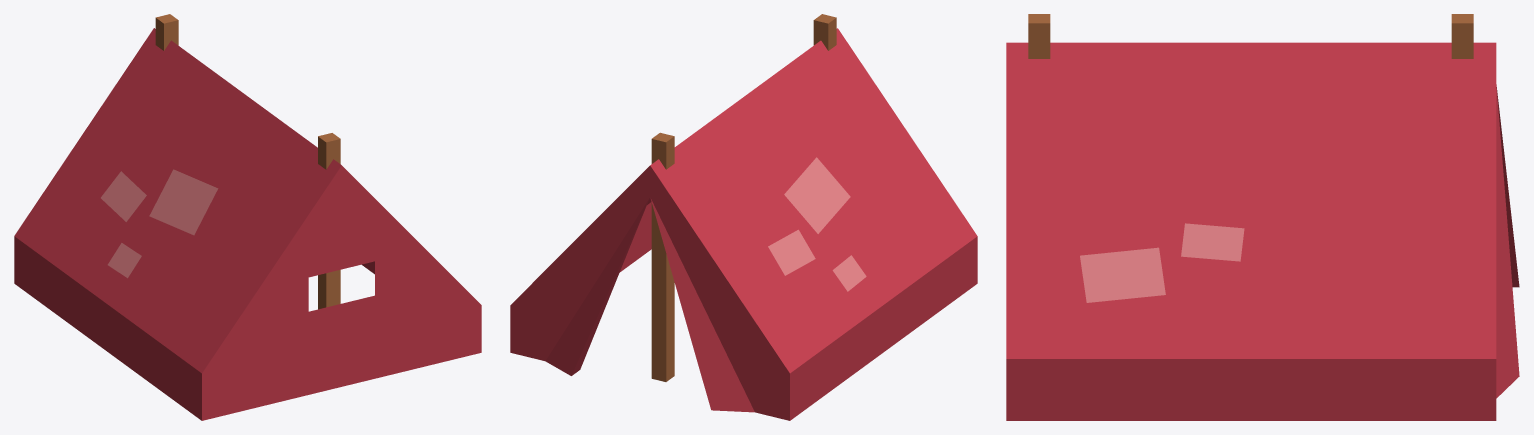
File: tentSmall.glb
3 views of the same model, side by side, from view 1: azimuth 30°, elevation 25°; view 2: azimuth 150°, elevation 25°; view 3: azimuth 270°, elevation 25° (orthographic). The views are drawn at different scales.
Parts seen in each view (by area): view 1: tentSmall; view 2: tentSmall; view 3: tentSmall.
Part boxes in pixels (left/top/right/bottom): tentSmall: left=14, top=14, right=481, bottom=420; tentSmall: left=510, top=14, right=977, bottom=420; tentSmall: left=1006, top=14, right=1519, bottom=420.
Bounding box in the file's own units: 1.1 × 0.8978 × 1.33.
